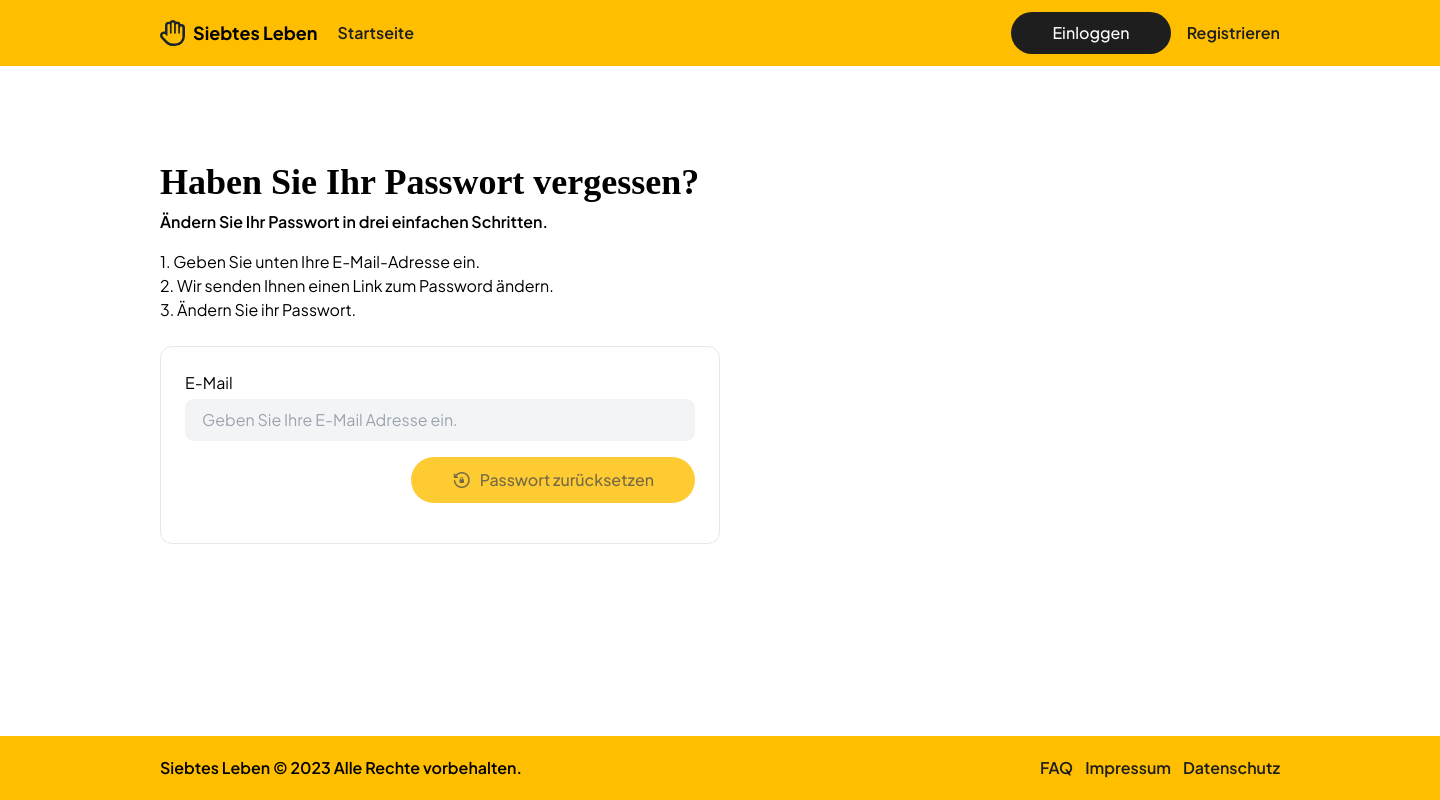
Test: Forgot password › Password Reset Page › Error Handling › should show error when service is unavailable
This screenshot has width=1440, height=800.
Type "test@test.de" into the field labelled "E-Mail" at (440, 420), box 185,399 -> 695,441
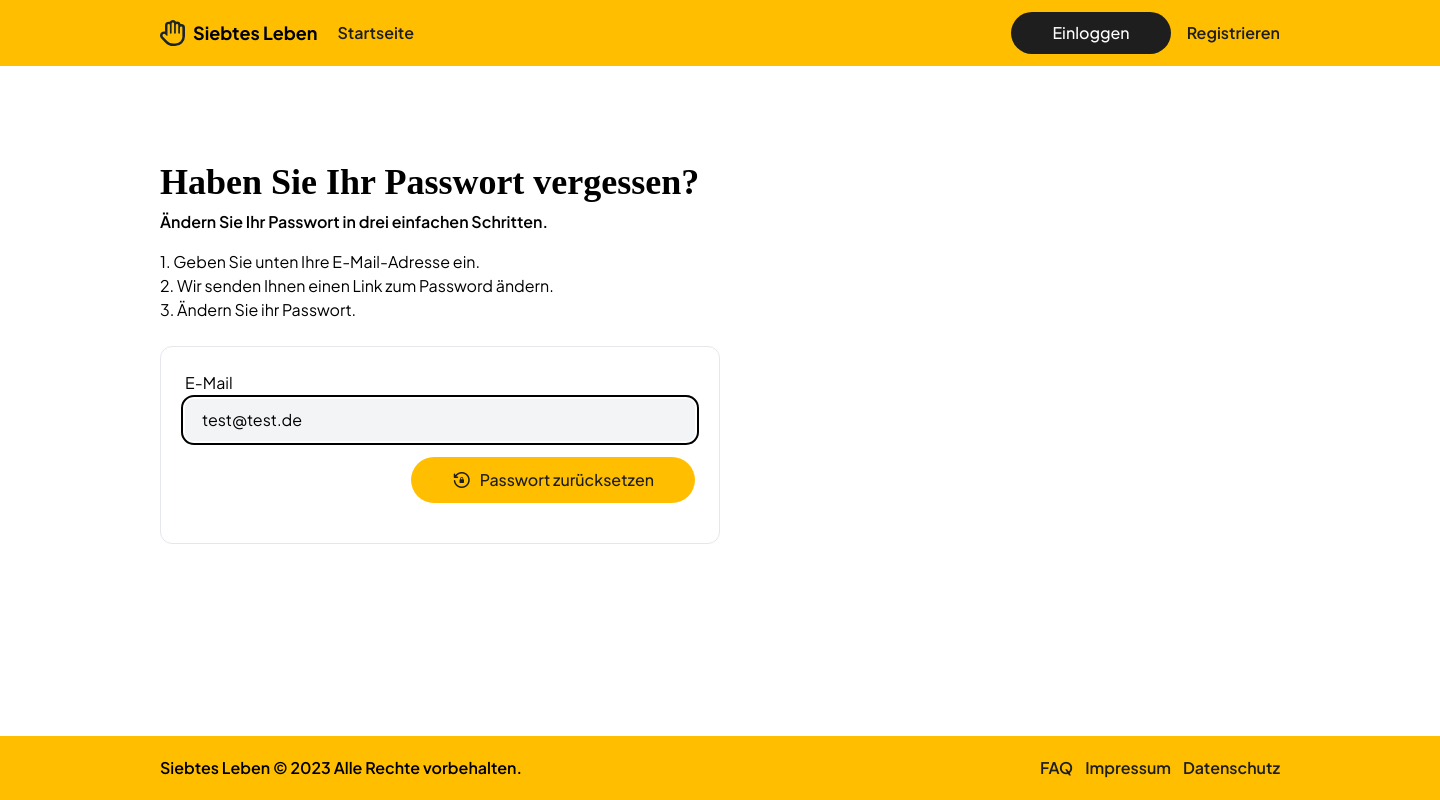
Click the button "Passwort zurücksetzen" at (553, 480), box 411,457 -> 695,503
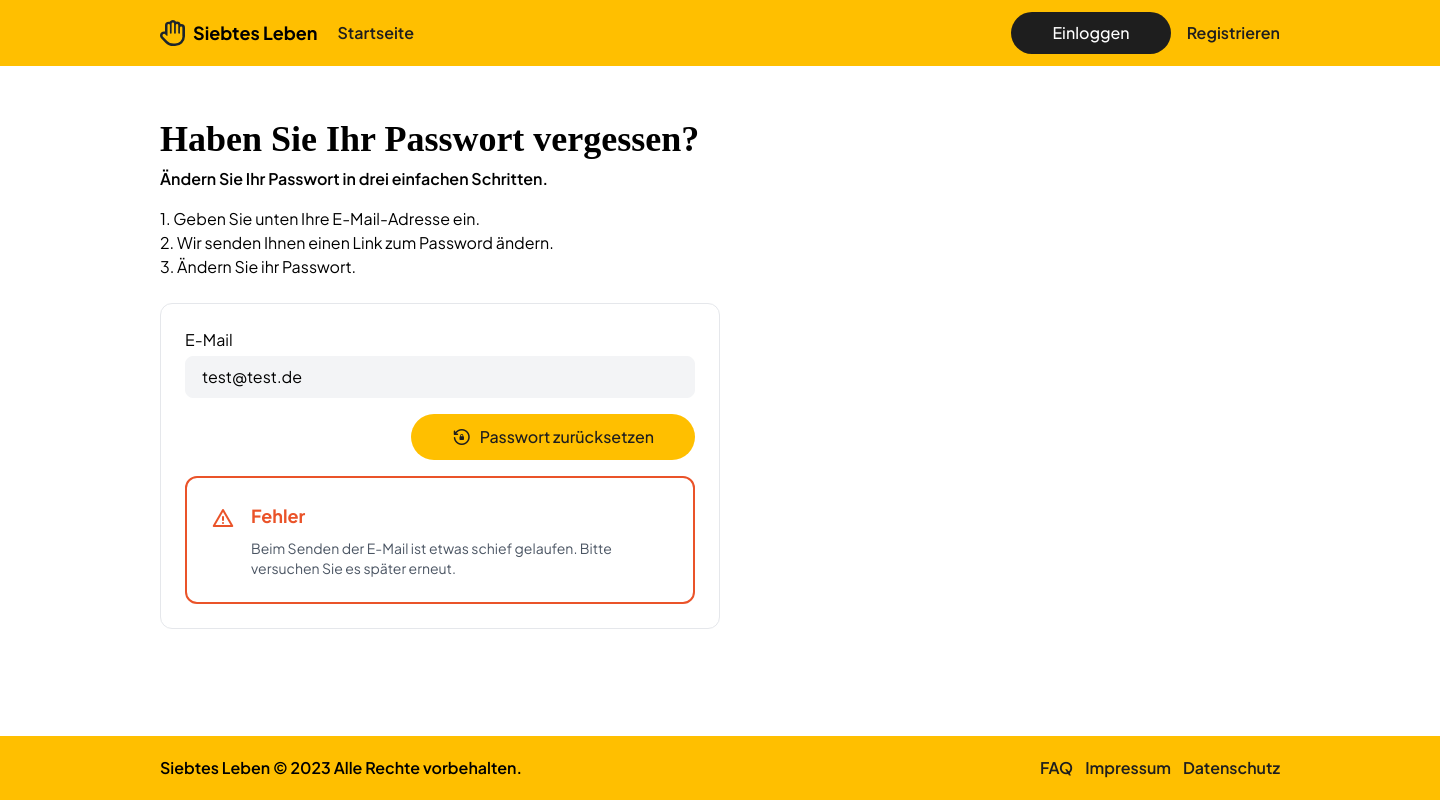
Expected: the heading "Fehler" is shown, 251,504 -> 305,527
Expected: the text "Beim Senden der E-Mail ist etwas schief gelaufen. Bitte versuchen Sie es später erneut." is shown, 251,539 -> 612,577
